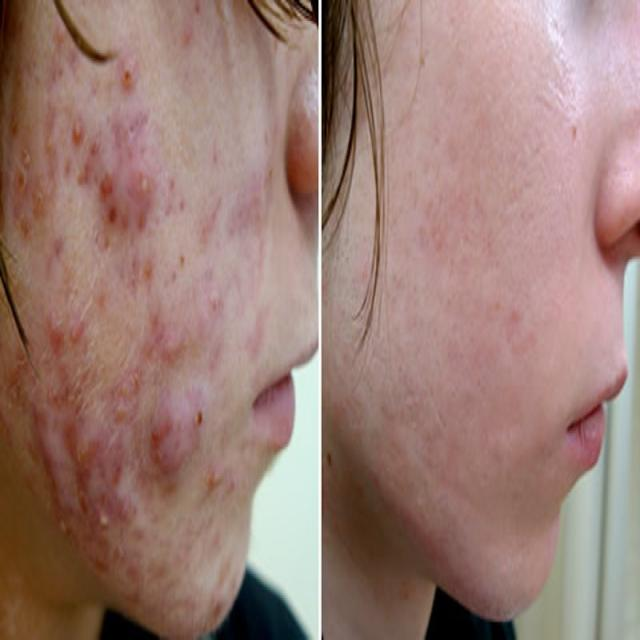acne: (7, 10, 264, 569), (380, 31, 574, 439)
